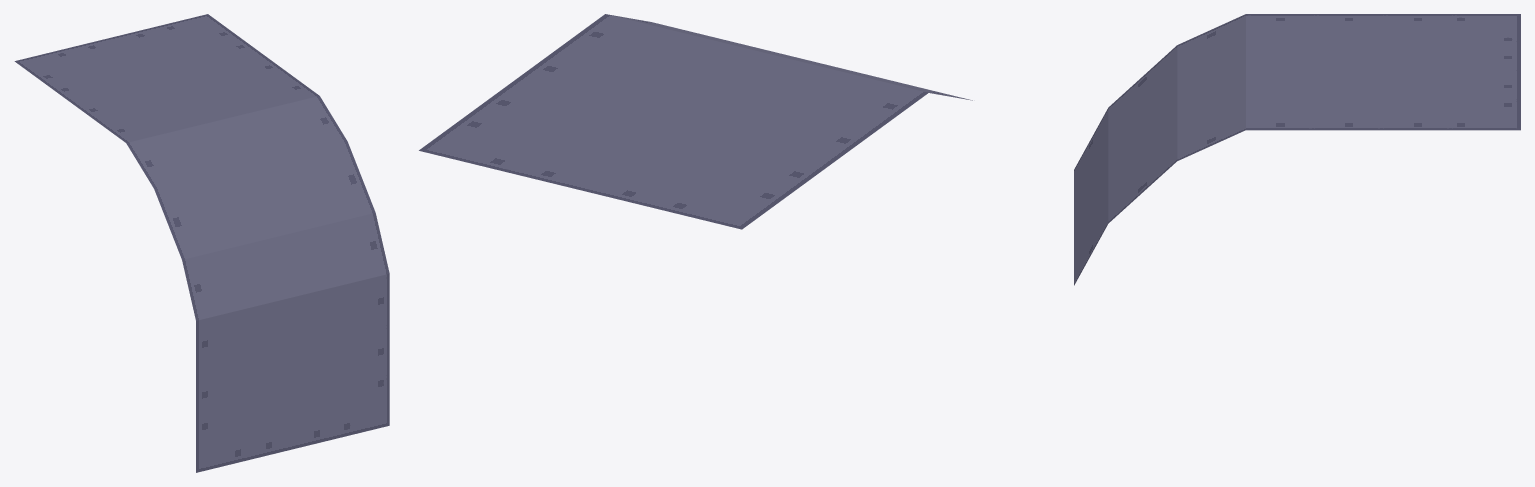
Rendered from SubHull-1x4.gltf.
3 views of the same model, side by side, from view 1: azimuth 30°, elevation 25°; view 2: azimuth 150°, elevation 25°; view 3: azimuth 270°, elevation 25° (orthographic). The views are drawn at different scales.
Parts seen in each view (by area): view 1: SubHull-1x4; view 2: SubHull-1x4; view 3: SubHull-1x4.
Boxes of the visible parts, left/top/right/bottom form: SubHull-1x4: left=14, top=14, right=389, bottom=472; SubHull-1x4: left=419, top=14, right=972, bottom=229; SubHull-1x4: left=1074, top=14, right=1520, bottom=285.
Bounding box in the file's own units: 2 × 2.75 × 3.25.
Materials: 1 (1 with a texture image).
